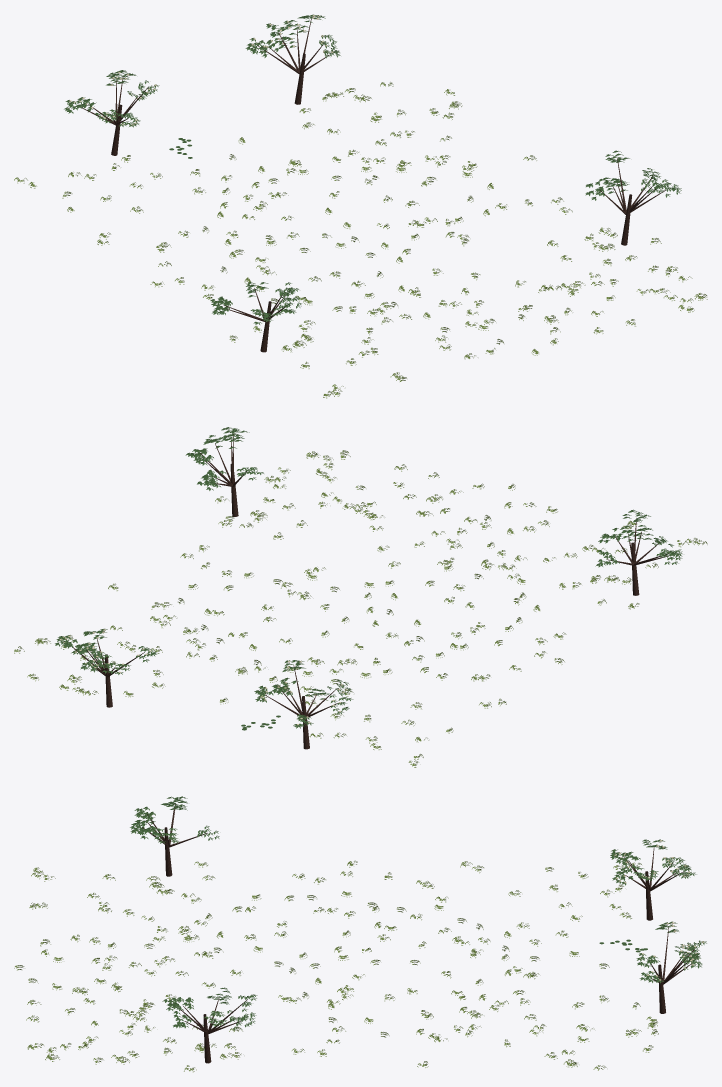
Rendered from garden_plants.glb.
3 views of the same model, one above another, from view 1: azimuth 30°, elevation 25°; view 2: azimuth 150°, elevation 25°; view 3: azimuth 270°, elevation 25° (orthographic).
Visible parts, largest first — view 1: garden_plants1, garden_plants0; view 2: garden_plants1, garden_plants0; view 3: garden_plants1, garden_plants0.
Boxes of the visible parts, left/top/right/bottom form: garden_plants1: left=62, top=14, right=693, bottom=390; garden_plants0: left=14, top=82, right=707, bottom=398; garden_plants1: left=35, top=427, right=688, bottom=749; garden_plants0: left=14, top=450, right=707, bottom=767; garden_plants1: left=33, top=796, right=706, bottom=1072; garden_plants0: left=14, top=860, right=658, bottom=1070.
Size of the model in its own units: 42.28 by 6.31 by 53.4.
1 material, 1 textured.
